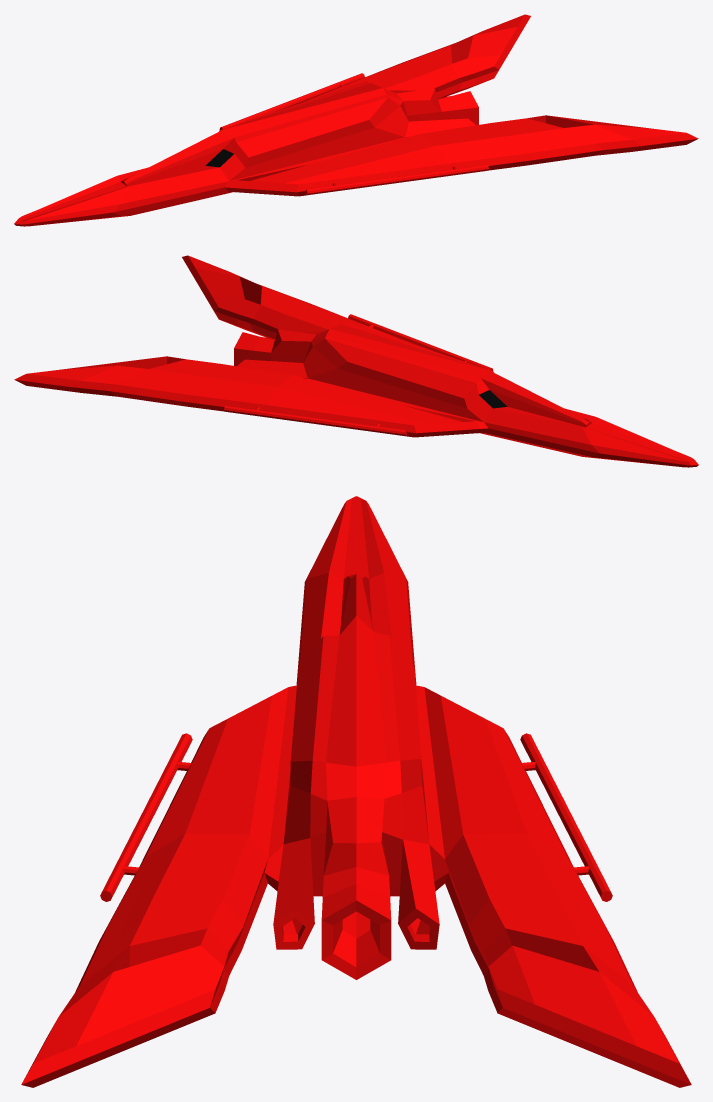
Rendered from Speeder.fbx.
The picture shows the model from 3 angles, top to bottom: view 1: azimuth 30°, elevation 25°; view 2: azimuth 150°, elevation 25°; view 3: azimuth 270°, elevation 25°; orthographic projection. The views are drawn at different scales.
Parts seen in each view (by area): view 1: Cylinder.001; view 2: Cylinder.001; view 3: Cylinder.001.
Part boxes in pixels (x1,y1,x2,y2): Cylinder.001: [14, 14, 698, 226]; Cylinder.001: [14, 255, 698, 467]; Cylinder.001: [21, 496, 691, 1087].
Bounding box in the file's own units: 148 × 15.15 × 71.64.
